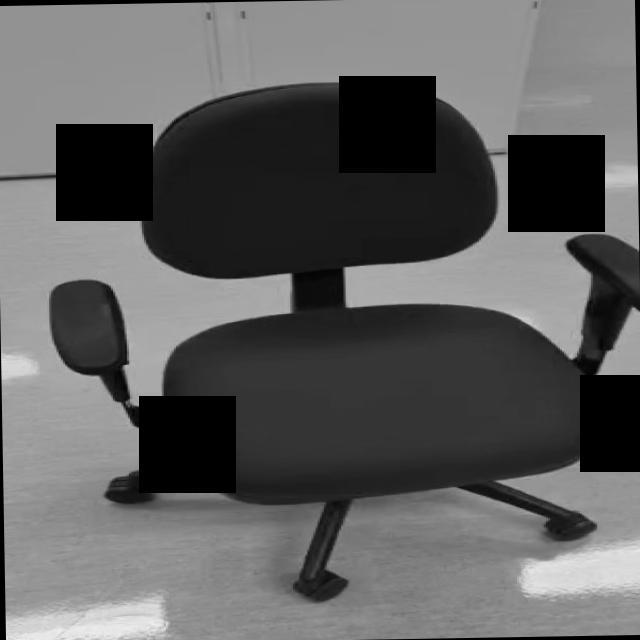chair: (47, 76, 640, 604)
